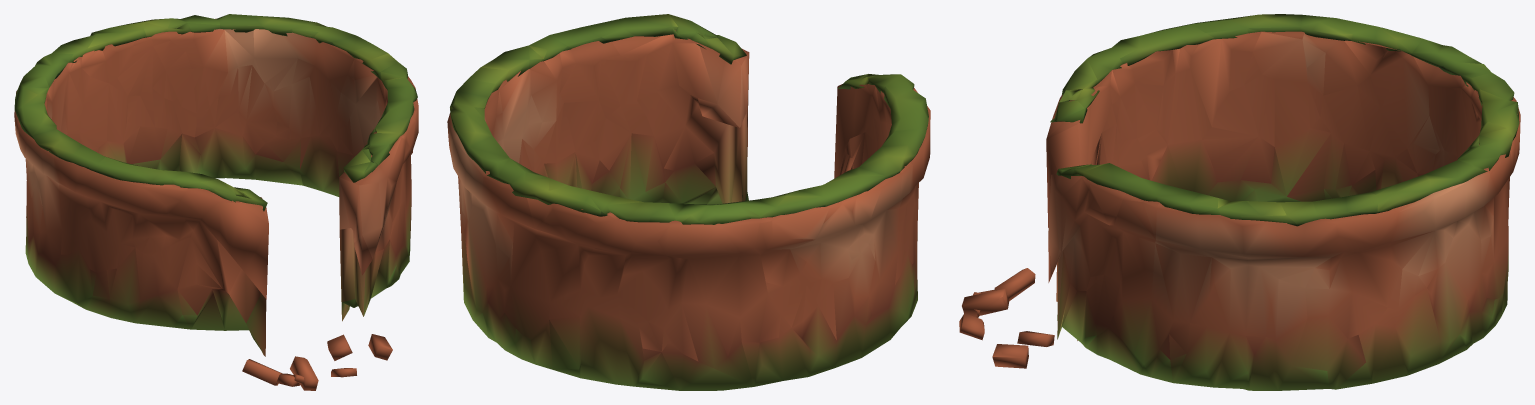
The model's file is mire_cracked_pot_lod2.glb.
3 views of the same model, side by side, from view 1: azimuth 30°, elevation 25°; view 2: azimuth 150°, elevation 25°; view 3: azimuth 270°, elevation 25° (orthographic). The views are drawn at different scales.
Visible parts, largest first — view 1: mire_cracked_pot.001; view 2: mire_cracked_pot.001; view 3: mire_cracked_pot.001.
Part boxes in pixels (left/top/right/bottom): mire_cracked_pot.001: left=14, top=14, right=418, bottom=390; mire_cracked_pot.001: left=447, top=14, right=930, bottom=390; mire_cracked_pot.001: left=959, top=14, right=1520, bottom=390.
Bounding box in the file's own units: 34.8 × 17.89 × 39.97.
